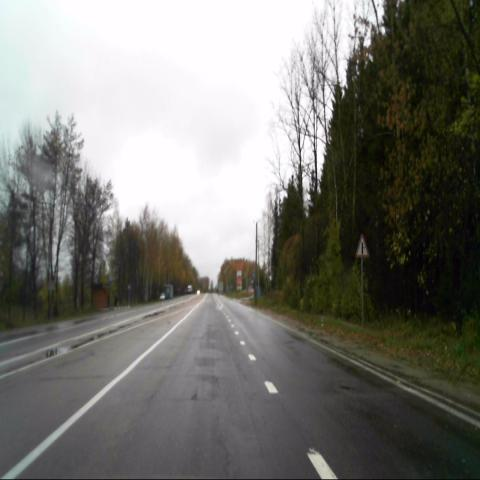2_3_2: (355, 233, 369, 258)
